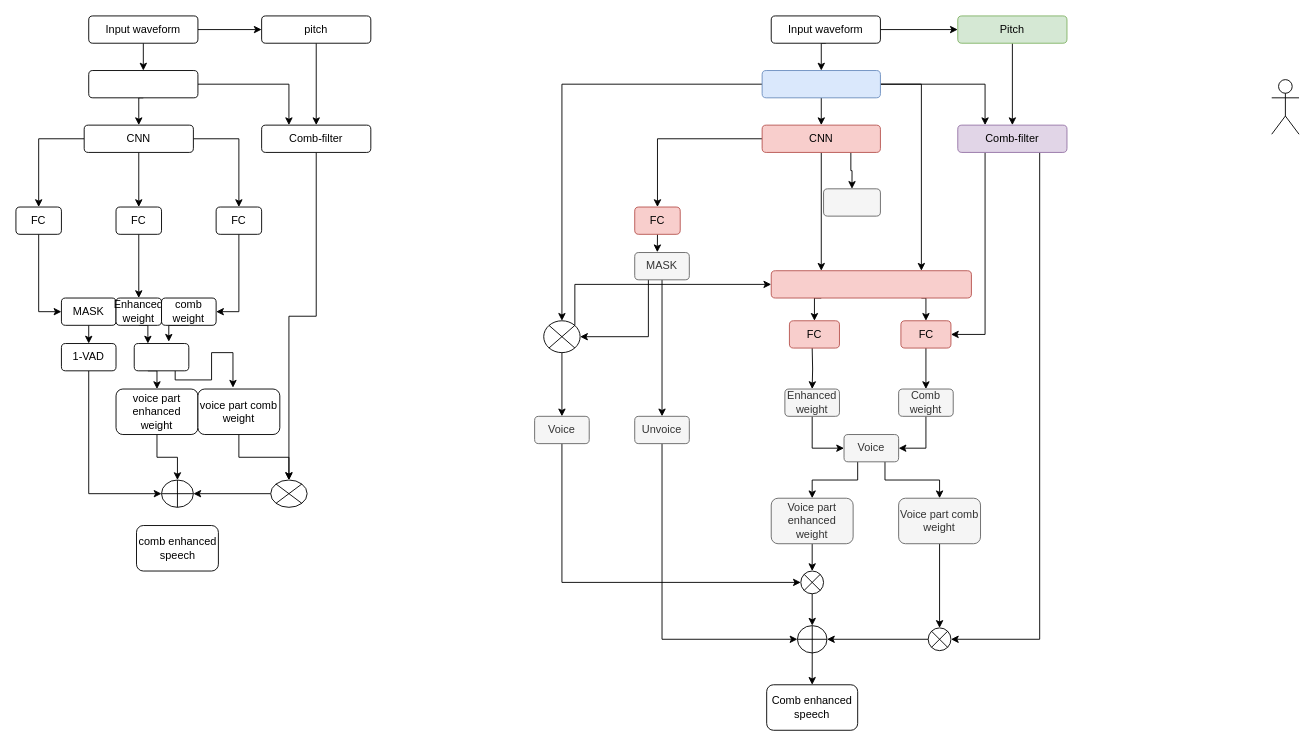
This 1315x746 diagram has some shape labels left out. The shapes that lost their labels are listed below. From the top down, each one's box as (x1, y1, x2, y2) in pixels, then its label:
(88, 70, 198, 98): gammatone
(761, 70, 880, 98): Gammatone filterbank
(1271, 79, 1299, 134): Actor
(823, 188, 880, 216): Pitch vad
(770, 270, 971, 298): Tune network
(133, 343, 189, 371): VAD
